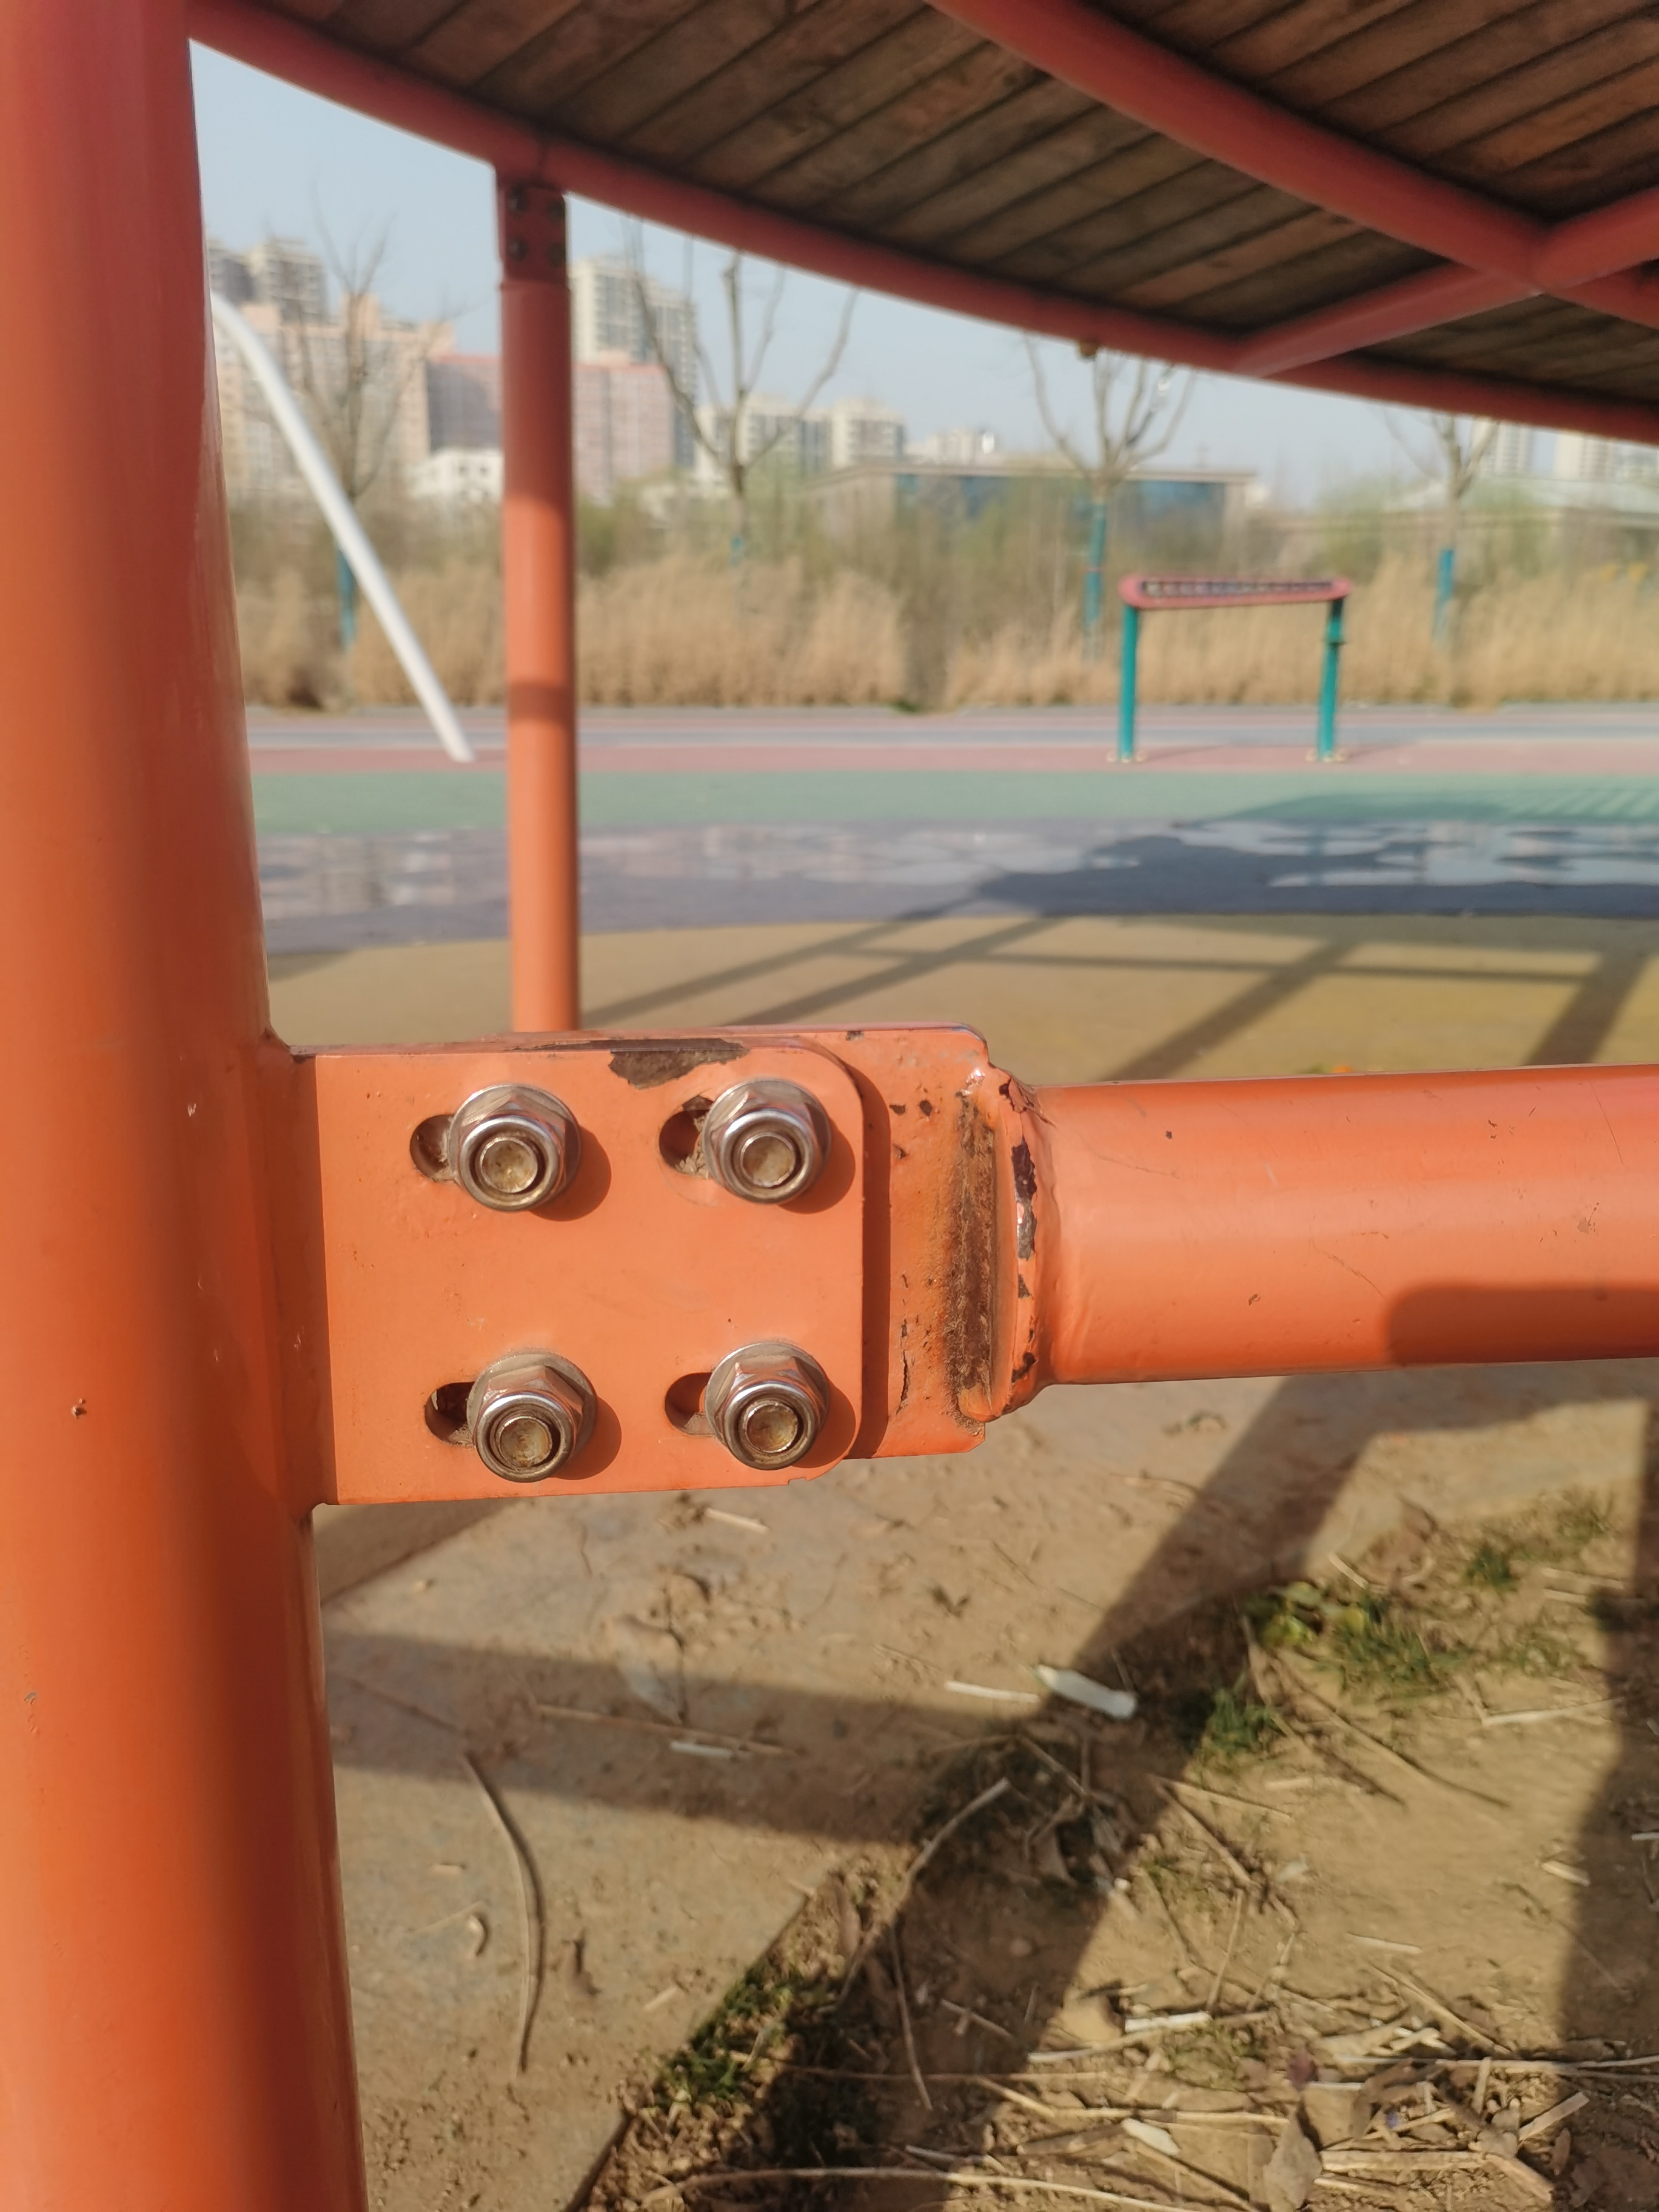bolt_b: (450, 1090, 577, 1217), (706, 1350, 831, 1475), (706, 1080, 828, 1209), (465, 1362, 589, 1486)
